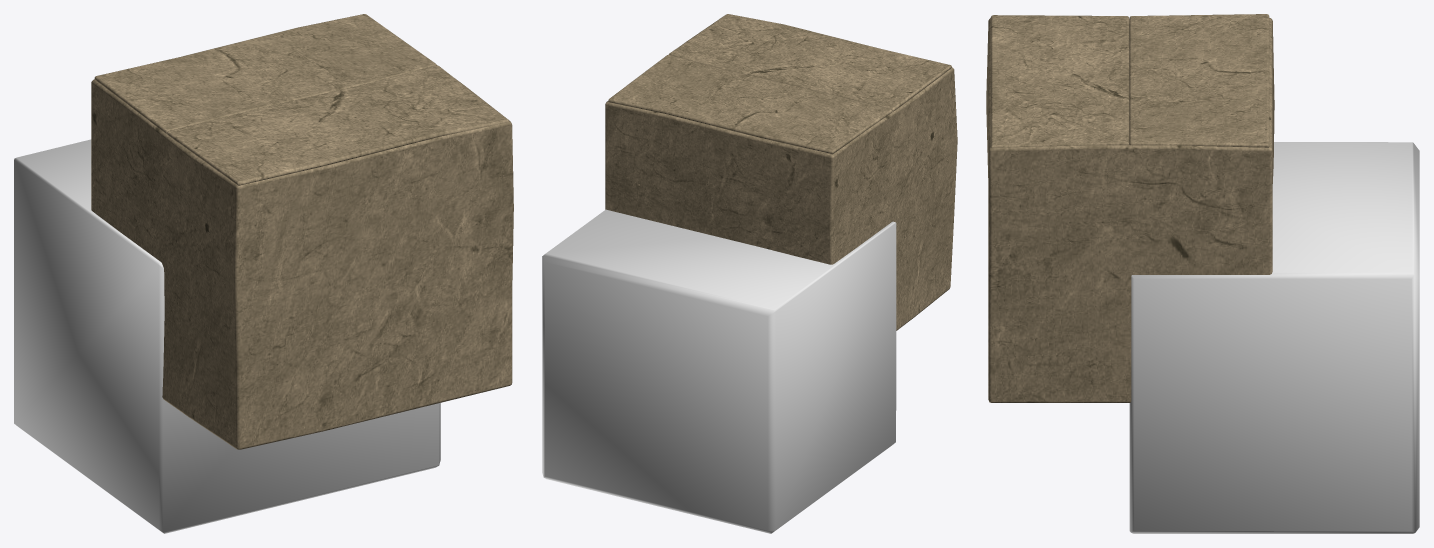
The model's file is SM_Cardboard_04.fbx.
3 views of the same model, side by side, from view 1: azimuth 30°, elevation 25°; view 2: azimuth 150°, elevation 25°; view 3: azimuth 270°, elevation 25° (orthographic). The views are drawn at different scales.
Visible parts, largest first — view 1: SM_Cardboard_04, SM_Cardboard_04_ConvexHulls; view 2: SM_Cardboard_04_ConvexHulls, SM_Cardboard_04; view 3: SM_Cardboard_04_ConvexHulls, SM_Cardboard_04.
Part boxes in pixels (bbox=[...]): SM_Cardboard_04: bbox=[91, 14, 513, 449]; SM_Cardboard_04_ConvexHulls: bbox=[14, 139, 440, 533]; SM_Cardboard_04_ConvexHulls: bbox=[542, 209, 896, 533]; SM_Cardboard_04: bbox=[605, 14, 957, 330]; SM_Cardboard_04_ConvexHulls: bbox=[1129, 142, 1419, 533]; SM_Cardboard_04: bbox=[986, 14, 1274, 402].
Bounding box in the file's own units: 0.5537 × 0.7624 × 0.7625.
